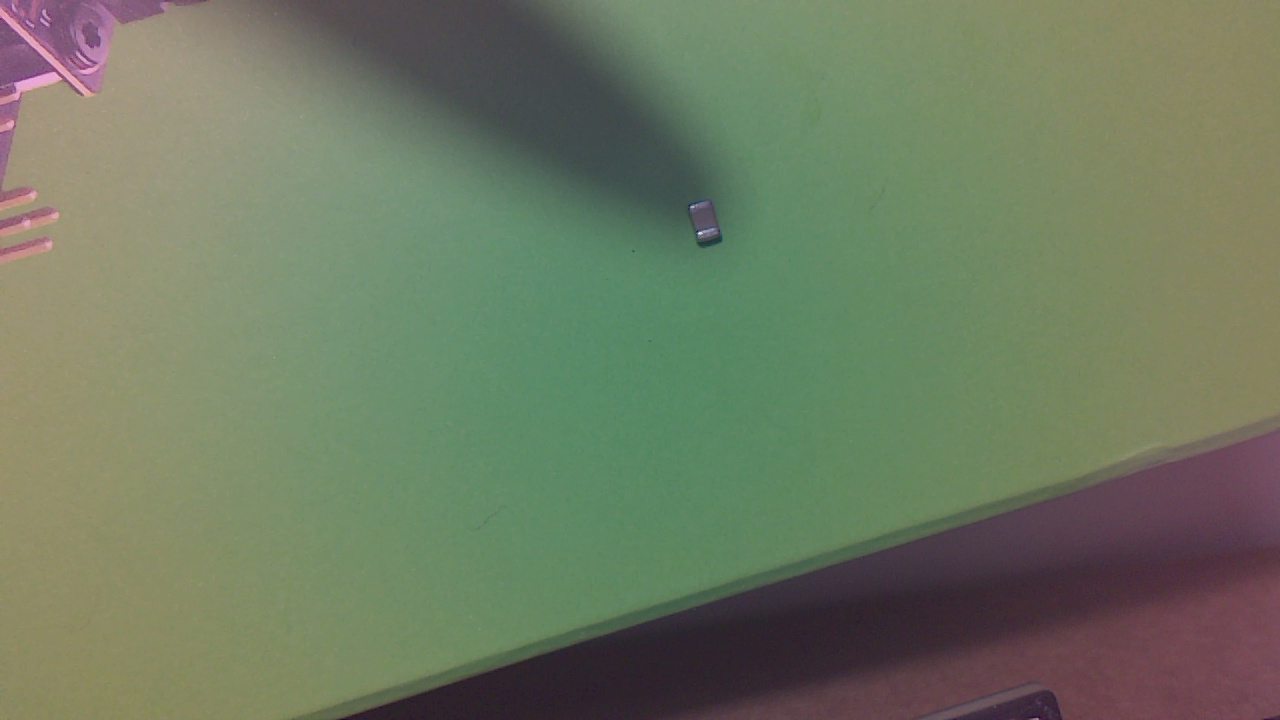Condensator: (693, 202, 730, 253)
